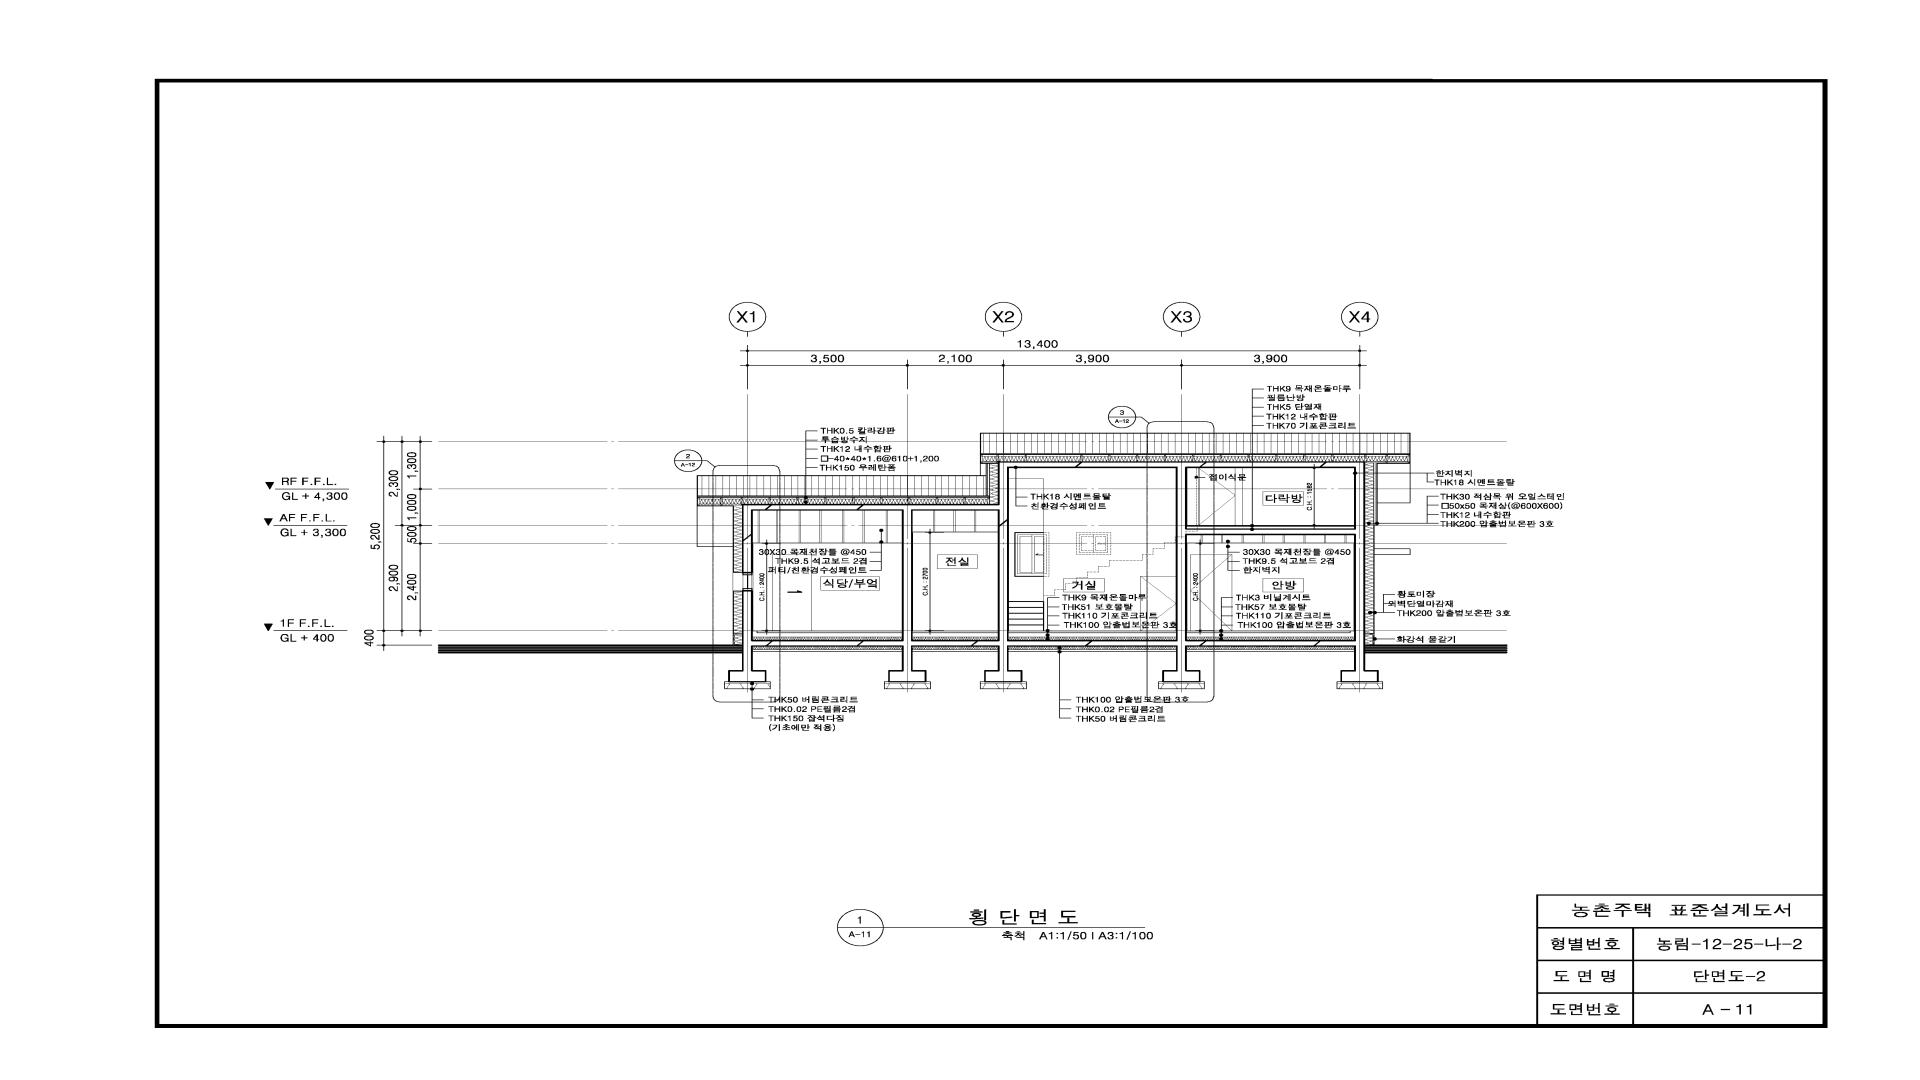door: (1190, 554, 1232, 631), (1198, 468, 1235, 525), (1140, 576, 1176, 631)
wall: (1073, 461, 1379, 682), (855, 461, 1081, 682), (972, 518, 1092, 682), (980, 433, 1411, 454), (697, 475, 986, 496), (728, 590, 774, 682), (742, 504, 774, 541), (1198, 461, 1328, 468), (1200, 640, 1322, 647), (767, 640, 866, 647), (766, 504, 863, 511), (742, 532, 753, 573), (980, 464, 989, 496), (1374, 548, 1411, 555)
window: (1014, 532, 1049, 577), (742, 573, 753, 590)
